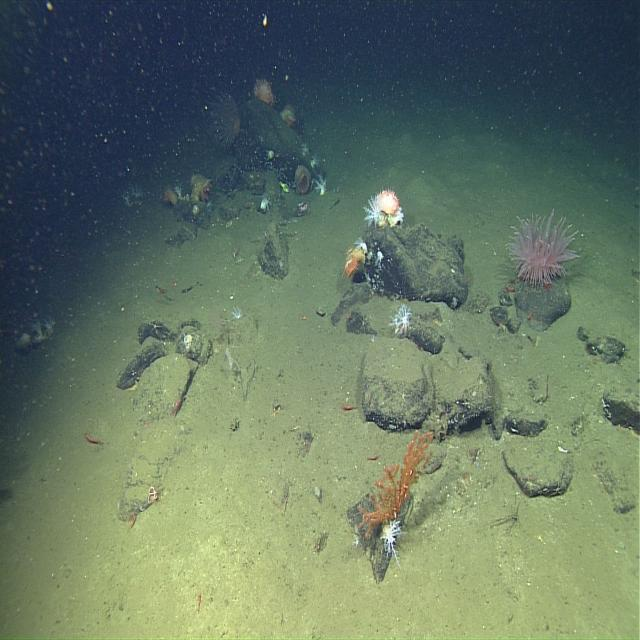Brittle Star: (394, 381, 411, 407), (147, 316, 162, 337), (146, 484, 159, 507)
Not Brittle Star: (354, 424, 437, 541), (503, 205, 582, 288), (209, 90, 242, 153), (382, 518, 402, 572), (362, 191, 389, 230), (188, 168, 214, 207), (342, 244, 367, 281), (374, 184, 400, 217), (396, 297, 413, 339), (253, 75, 276, 106), (293, 163, 312, 198), (278, 103, 298, 129), (82, 428, 106, 447), (161, 184, 179, 207), (312, 172, 328, 197), (167, 392, 183, 417), (339, 397, 358, 412), (259, 193, 272, 213), (230, 303, 244, 321), (310, 151, 322, 170), (365, 448, 381, 462), (524, 305, 535, 325), (154, 283, 169, 297), (196, 587, 202, 614)
